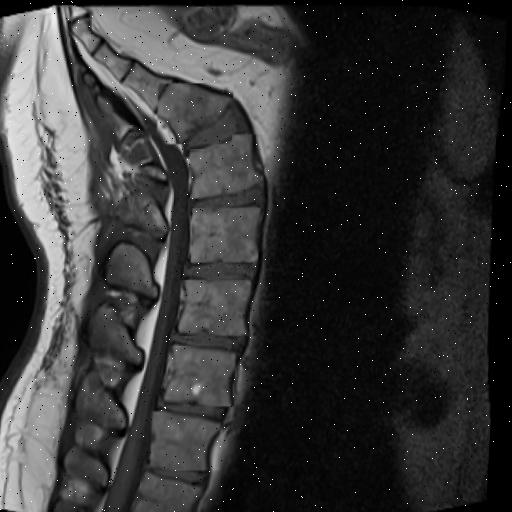L1: (154, 410, 224, 469)
L2: (167, 344, 239, 405)
L3: (181, 278, 253, 334)
L4: (193, 206, 261, 261)
L5: (190, 133, 265, 197)
S1: (158, 82, 232, 141)
